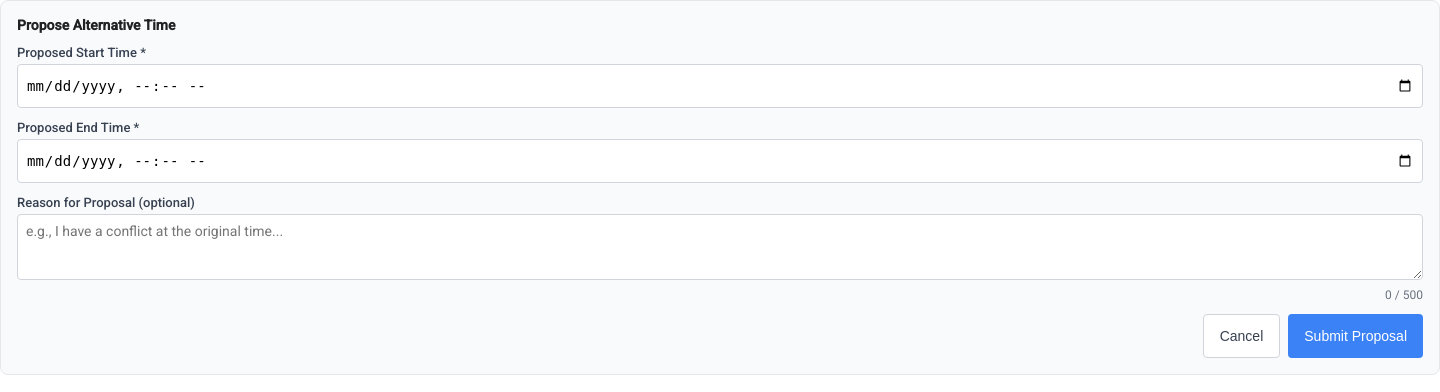
it: TimeProposalForm › updates character count as user types
Step 1. Type "I have a conflict" into the text box labelled "Reason for Proposal (optional)" → [720, 247], box [17,214,1423,280]
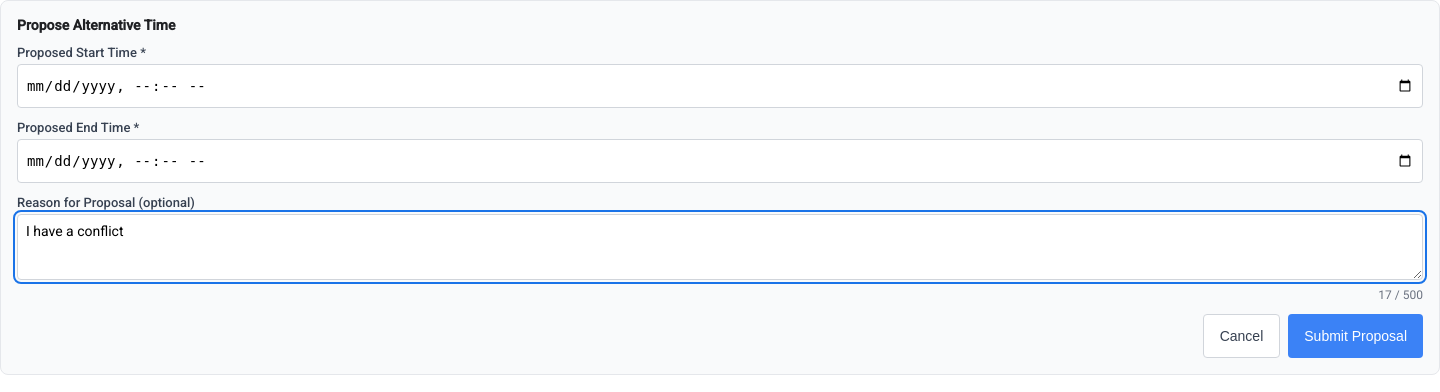
Expected: the text "17 / 500" is shown, [1378,288,1423,302]
